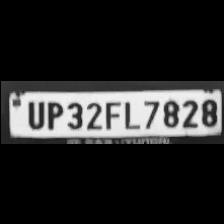2: (178, 96, 200, 128), (82, 99, 102, 129)
3: (64, 98, 82, 128)
7: (138, 96, 158, 128)
8: (159, 96, 179, 128), (198, 97, 218, 127)
F: (102, 99, 118, 129)
L: (120, 97, 138, 128)
P: (43, 97, 63, 128)
U: (22, 97, 44, 128)
